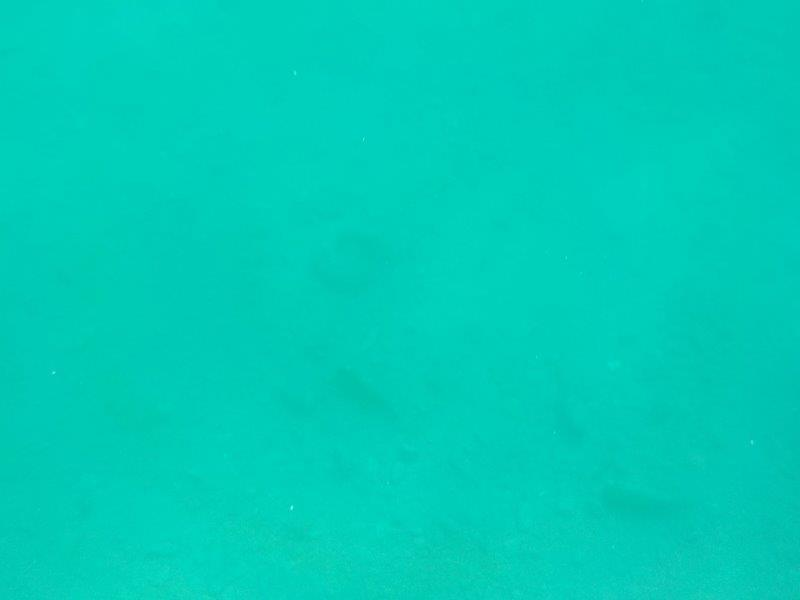bottle: (605, 472, 708, 532)
tire: (295, 212, 391, 295)
